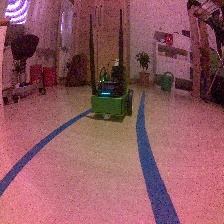rob: (90, 65, 134, 120)
